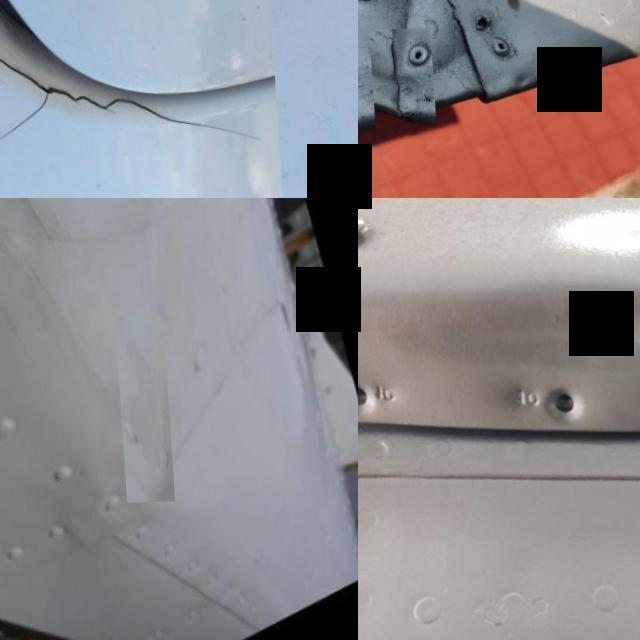Crack: (0, 0, 275, 198), (366, 30, 432, 130)
Dent: (112, 321, 166, 504), (0, 198, 65, 295)
Missing_Fastener: (524, 370, 595, 436), (358, 357, 385, 431)
